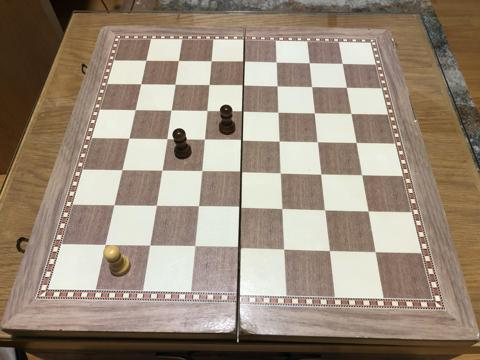xcorner: (141, 55, 154, 68), (156, 164, 169, 177), (338, 57, 350, 70), (239, 56, 251, 69), (238, 80, 251, 92), (204, 79, 216, 92), (130, 104, 143, 116), (199, 133, 211, 146), (161, 133, 174, 145), (317, 167, 330, 179), (236, 166, 249, 178), (196, 165, 209, 177), (279, 202, 291, 215), (372, 245, 385, 257), (280, 243, 293, 255), (305, 57, 317, 69), (272, 57, 284, 69), (206, 56, 218, 68), (174, 56, 186, 68), (342, 81, 354, 93), (307, 81, 319, 93), (273, 80, 285, 92), (170, 79, 182, 91), (136, 79, 148, 91), (347, 107, 359, 119), (310, 107, 322, 119), (274, 106, 286, 118), (238, 106, 250, 118), (202, 105, 214, 117), (166, 105, 178, 117), (352, 136, 364, 148), (314, 135, 326, 147), (275, 135, 287, 147), (237, 134, 249, 146), (124, 132, 136, 144), (358, 168, 370, 180), (277, 167, 289, 179), (117, 164, 129, 176), (365, 204, 377, 216), (322, 203, 334, 215), (236, 202, 248, 214), (193, 201, 205, 213), (151, 200, 163, 212), (109, 199, 121, 211), (326, 244, 338, 256), (235, 242, 247, 254), (190, 241, 202, 253), (145, 240, 157, 252), (100, 239, 112, 251)
